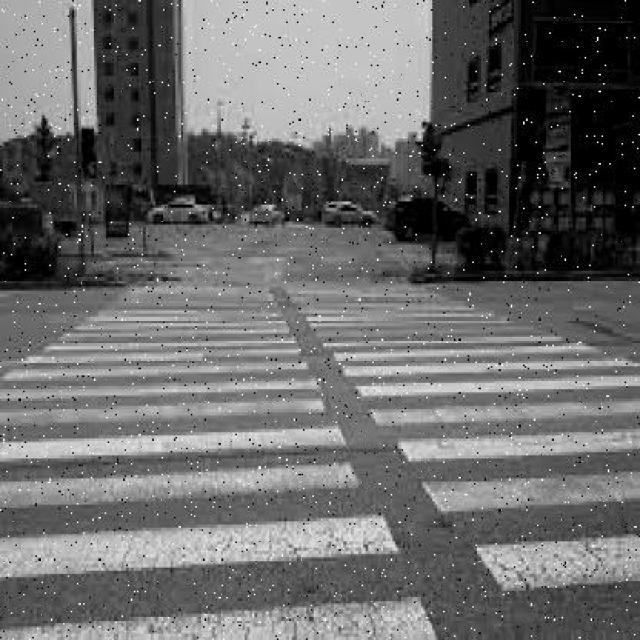crosswalk: (2, 282, 439, 640), (284, 284, 640, 591)
